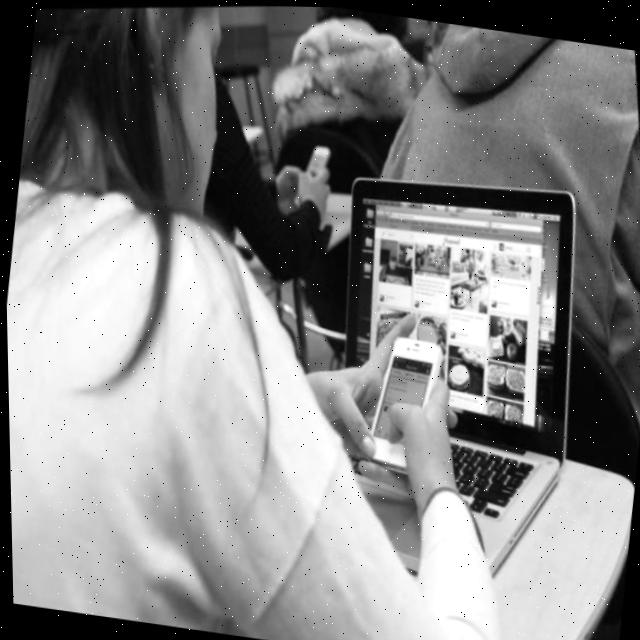phone: (326, 318, 464, 487), (282, 136, 341, 211), (297, 138, 336, 183)
